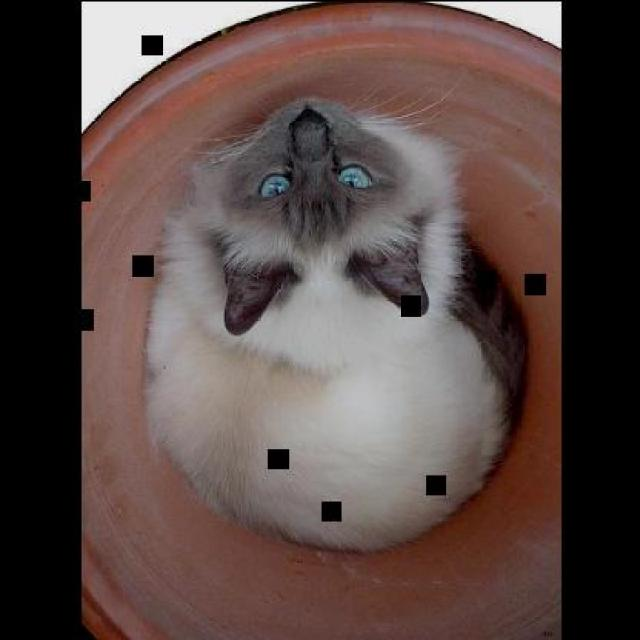unauthorized: (142, 95, 529, 554)
